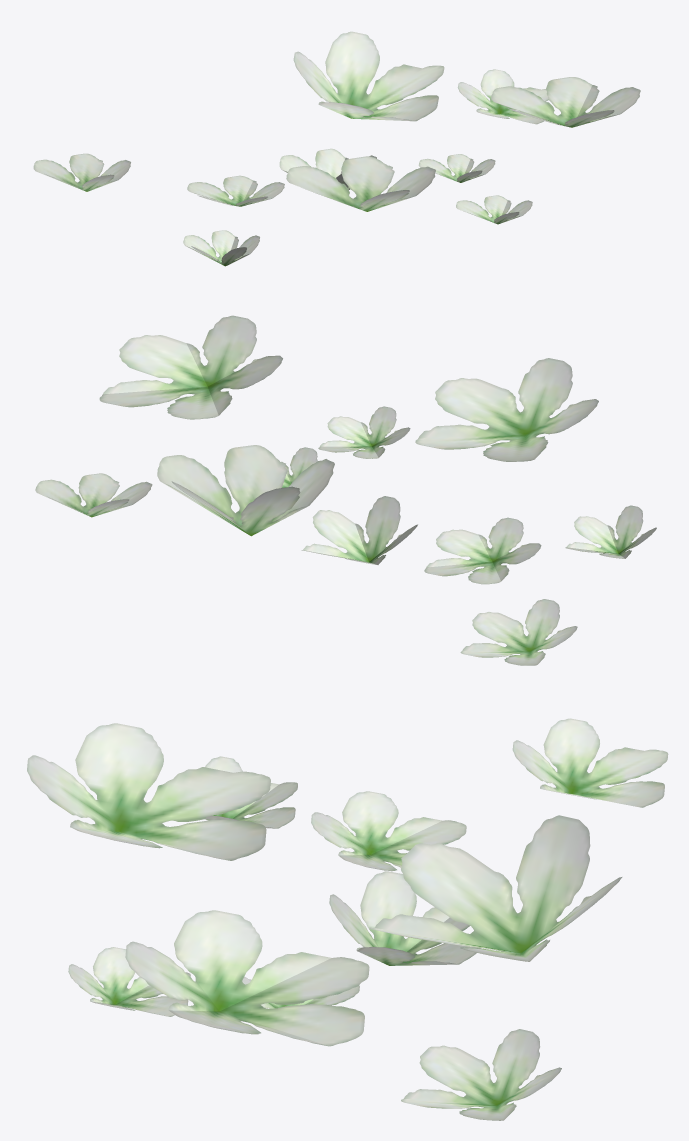
File: hua03.FBX
3 renders of one model, top to bottom at view 1: azimuth 30°, elevation 25°; view 2: azimuth 150°, elevation 25°; view 3: azimuth 270°, elevation 25°, orthographic. The views are drawn at different scales.
Parts seen in each view (by area): view 1: Object109; view 2: Object109; view 3: Object109.
Boxes of the visible parts, x1,y1,x2,y2 form: Object109: (33, 31, 640, 266); Object109: (35, 315, 656, 665); Object109: (27, 718, 668, 1120).
Bounding box in the file's own units: 31.19 × 6.55 × 22.13.
